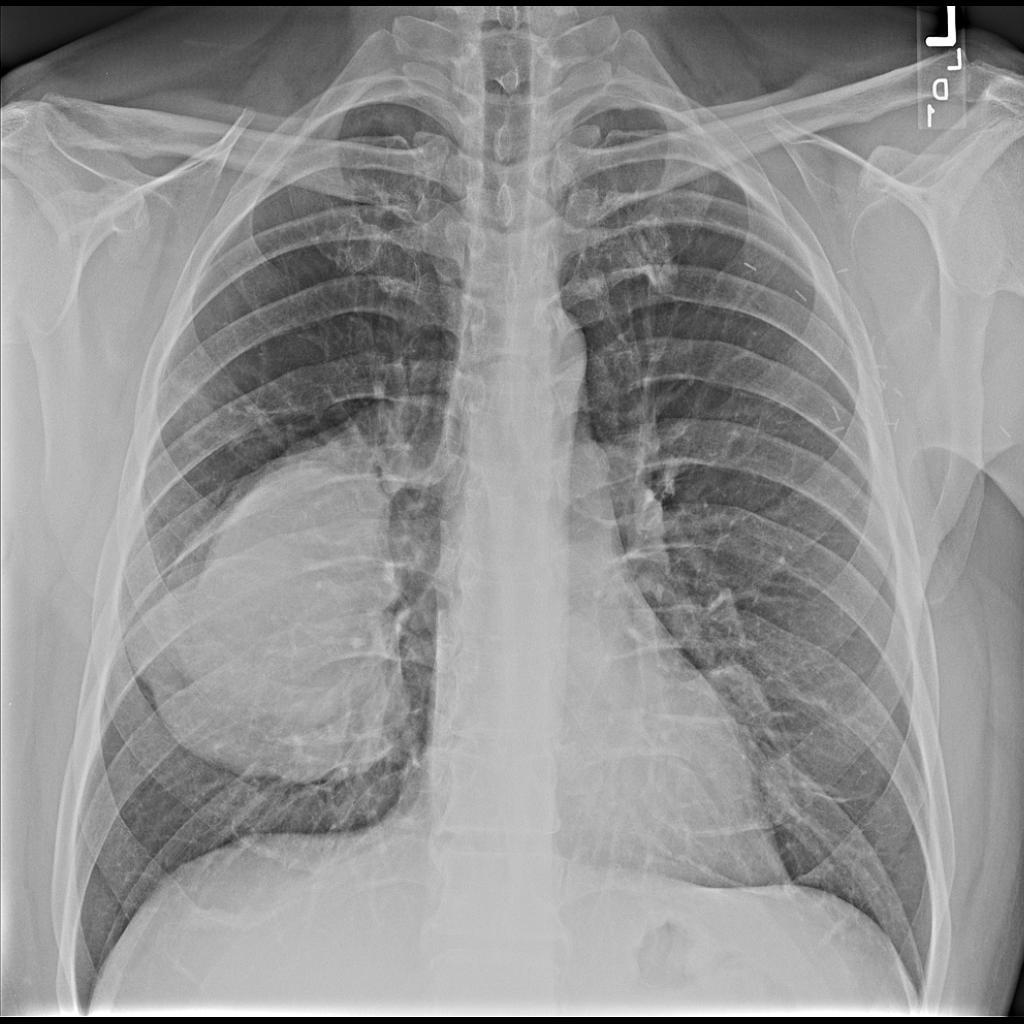Nodule: (703, 660, 777, 735)
